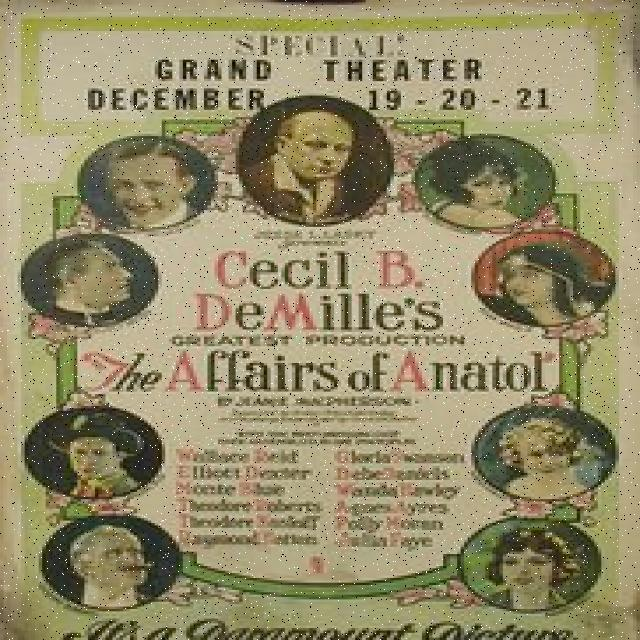movie-judul: (81, 242, 563, 400)
